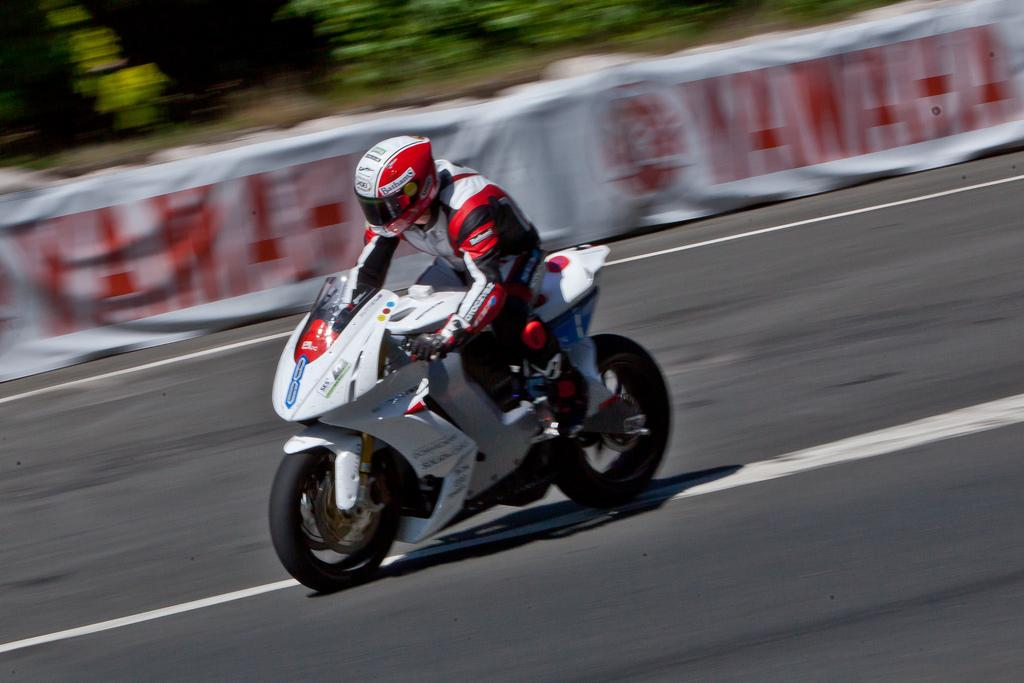helmet: (354, 135, 439, 238)
